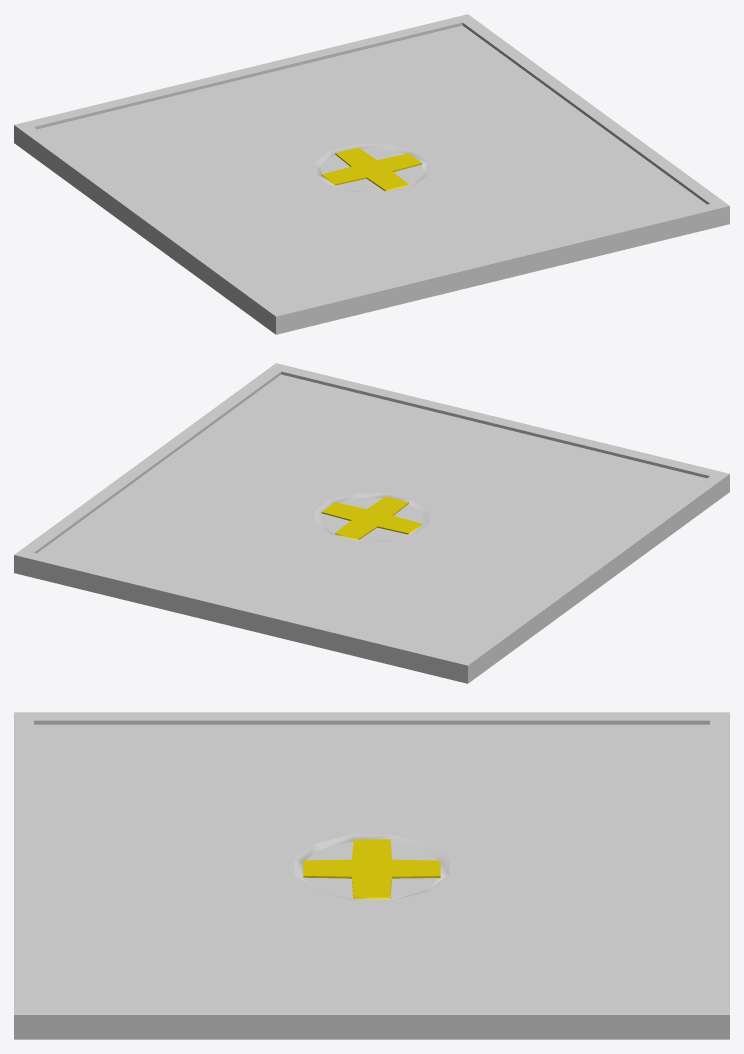
The model's file is Square Big Platform.fbx.
3 views of the same model, one above another, from view 1: azimuth 30°, elevation 25°; view 2: azimuth 150°, elevation 25°; view 3: azimuth 270°, elevation 25° (orthographic). The views are drawn at different scales.
Parts seen in each view (by area): view 1: Square Big Platform; view 2: Square Big Platform; view 3: Square Big Platform.
Boxes of the visible parts, box(x1,y1,x2,y2) form: Square Big Platform: box(14, 14, 729, 334); Square Big Platform: box(14, 363, 729, 683); Square Big Platform: box(14, 712, 729, 1039).
Bounding box in the file's own units: 3200 × 201 × 3200.
